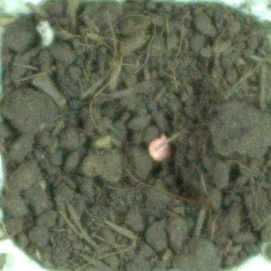pepper seed: (58, 50, 234, 213)
